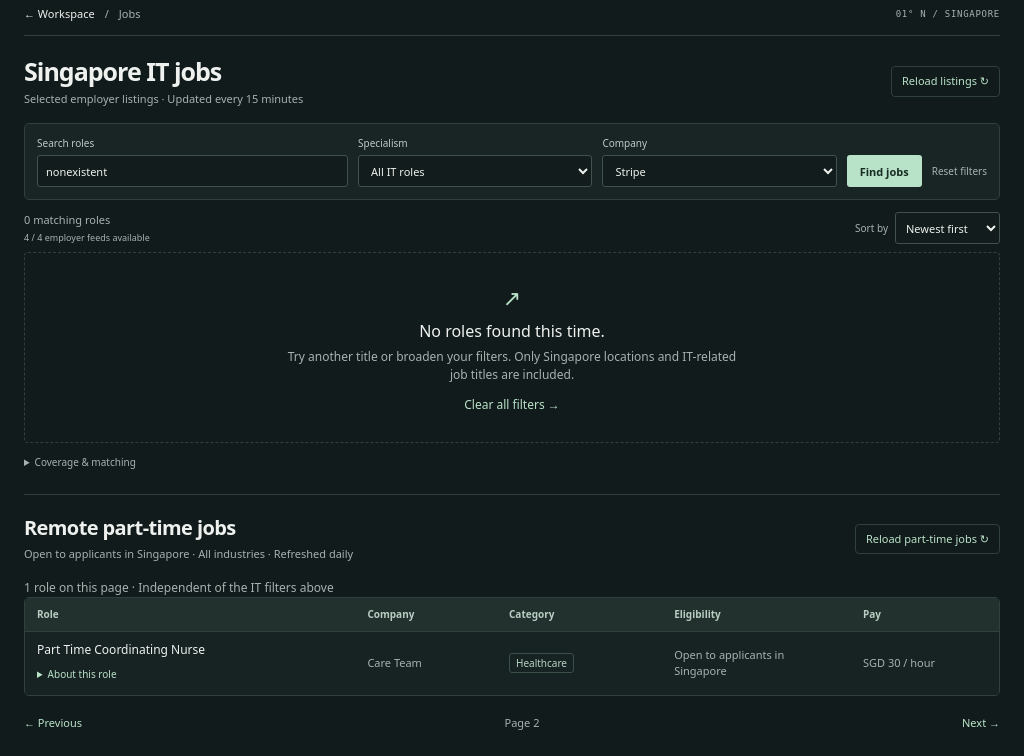
Test: part-time section displays non-IT roles independently of main filters and paginates separately
Expected: the text "1 role on this page · Independent of the IT filters above" is shown, [24, 578, 334, 596]
Expected: the column heading "Part Time Coordinating Nurse About this role" is shown, [25, 632, 355, 694]
What coordinates should you click on to do the following:
click the heading "About this role"
I would click on:
 (77, 674)
Its box is [37, 662, 116, 686].
(page scrolled)
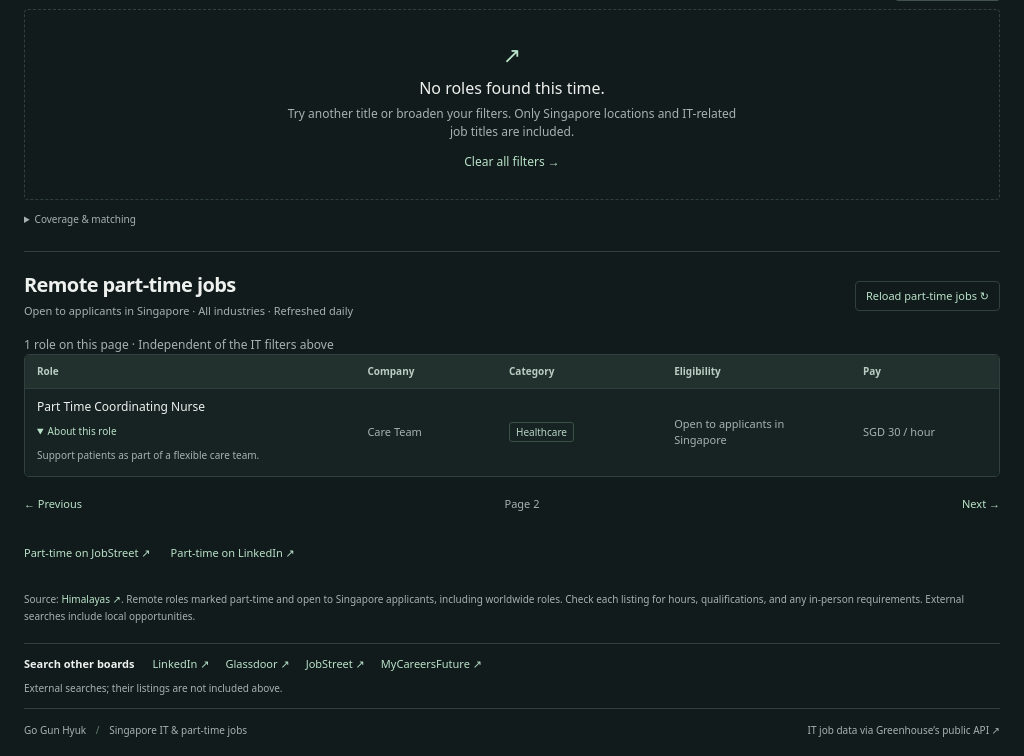
Expected: the text "SGD 30 / hour" is shown, [851, 388, 1000, 476]
Expected: the text "Support patients as part of a flexible care team." is shown, [37, 448, 259, 462]
